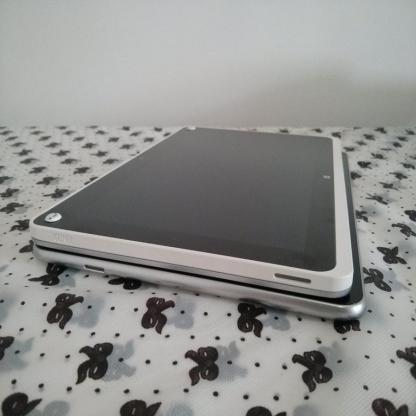board: (9, 115, 391, 305)
